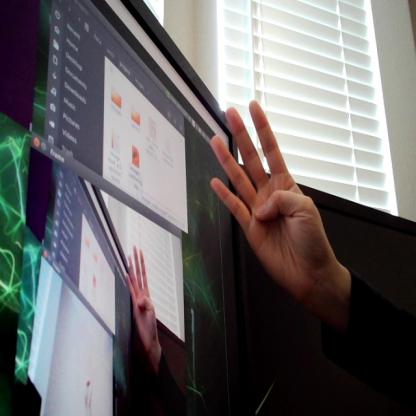four: (205, 96, 338, 304), (124, 238, 160, 361)
